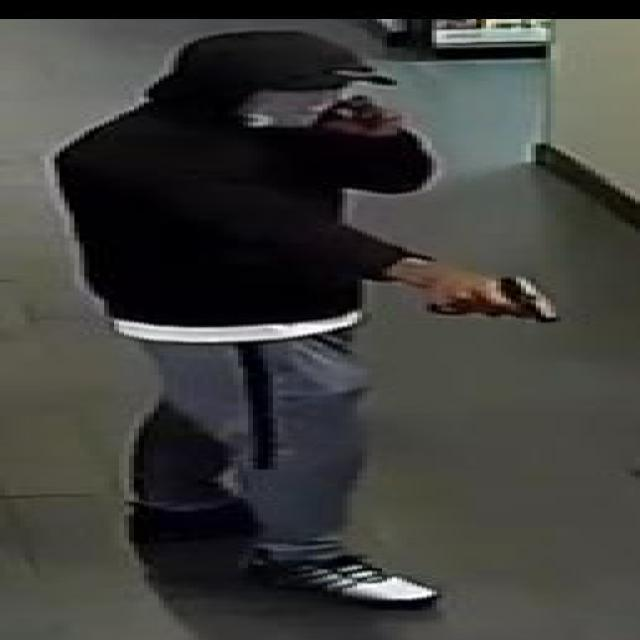gun: (412, 268, 566, 324)
